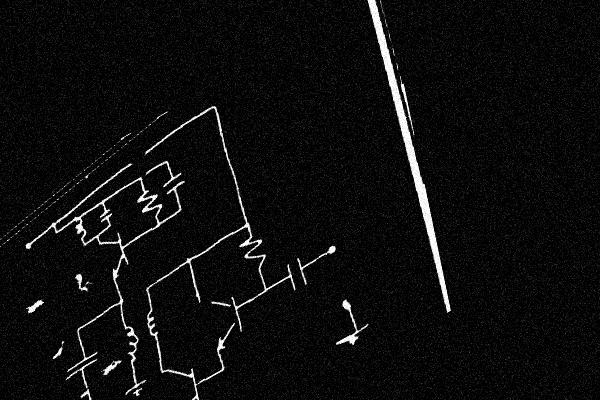capacitor: (62, 345, 103, 386), (281, 251, 311, 298), (160, 165, 188, 202), (97, 204, 115, 228)
ground: (333, 315, 373, 357), (122, 373, 150, 400), (72, 391, 110, 400)
inductor: (121, 315, 144, 370), (142, 301, 162, 346), (72, 211, 89, 245)
resistor: (236, 222, 271, 284), (133, 175, 167, 232)
